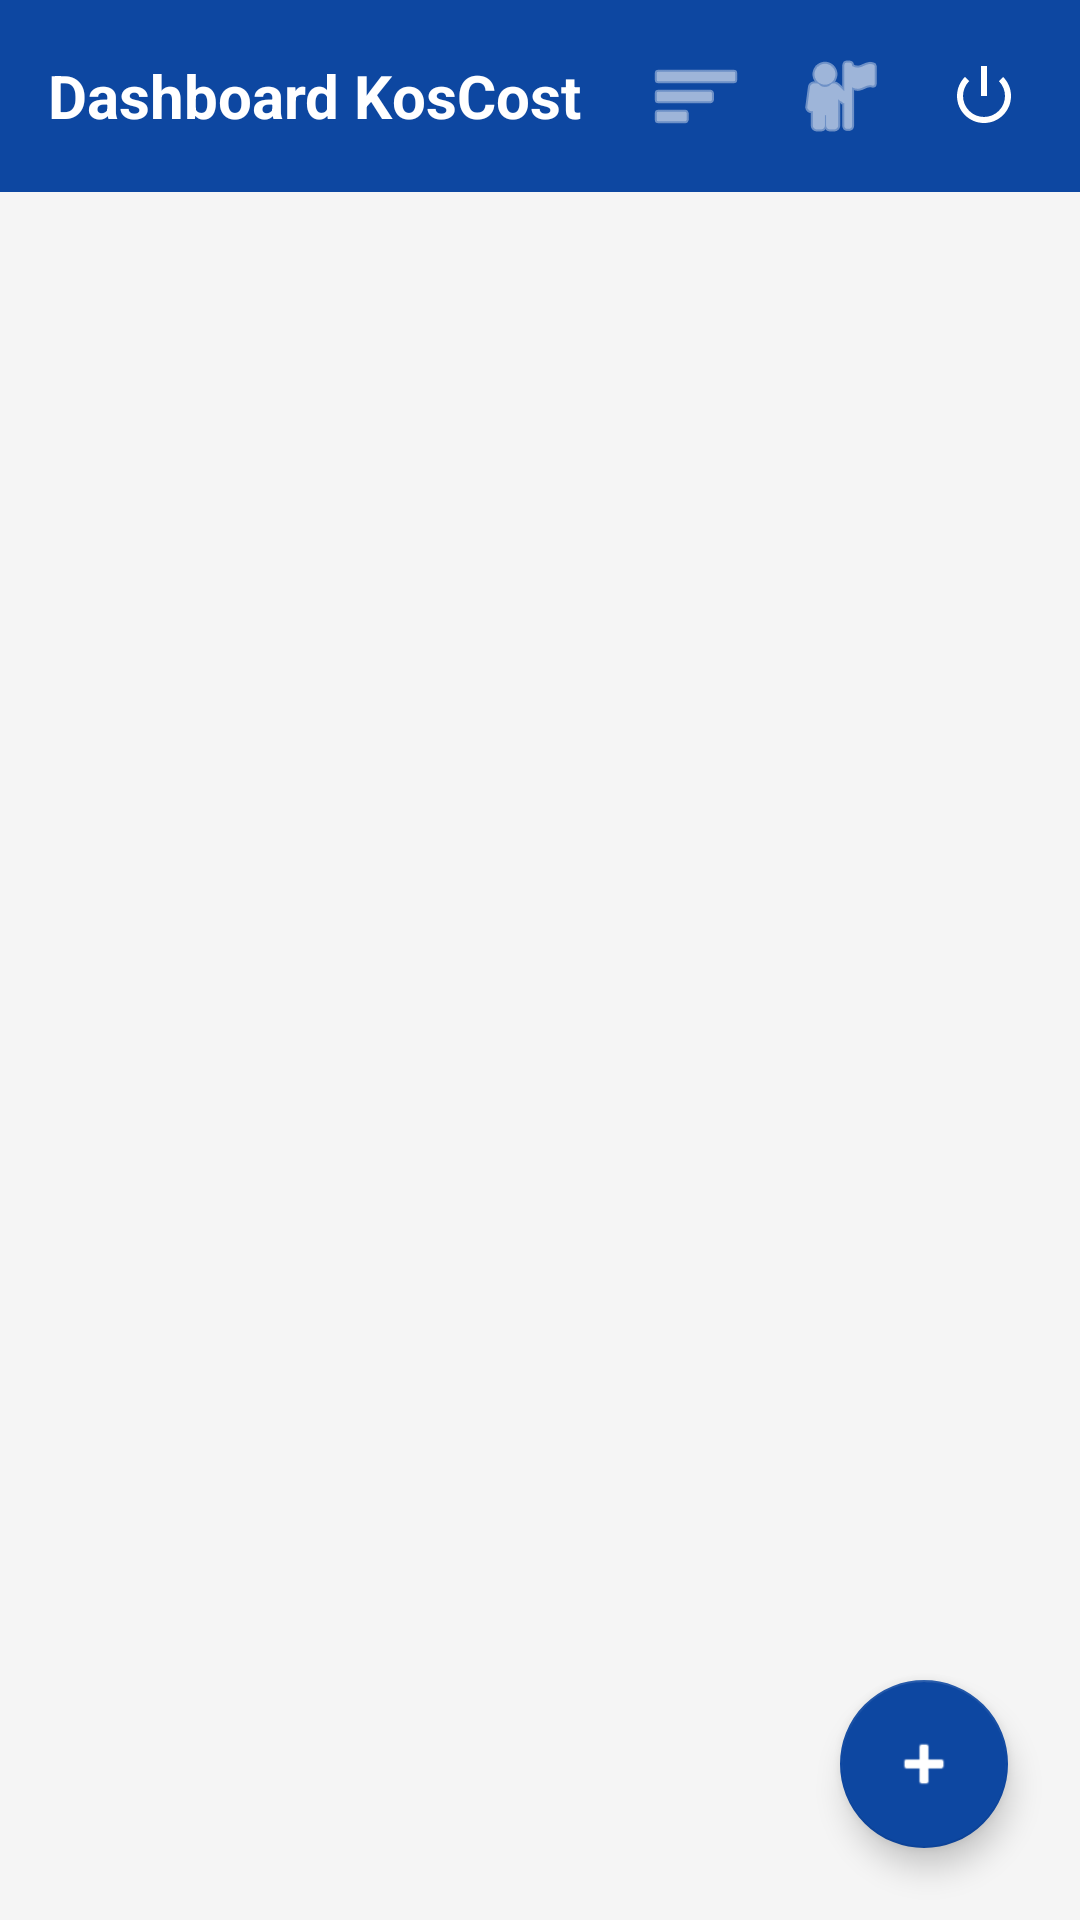

Where icons sit on this 1080×1920 app screen, as (x1, y1, x2, y2):
Laporan: (655, 70, 737, 123)
Tambah Kamar: (840, 1680, 1008, 1848)
